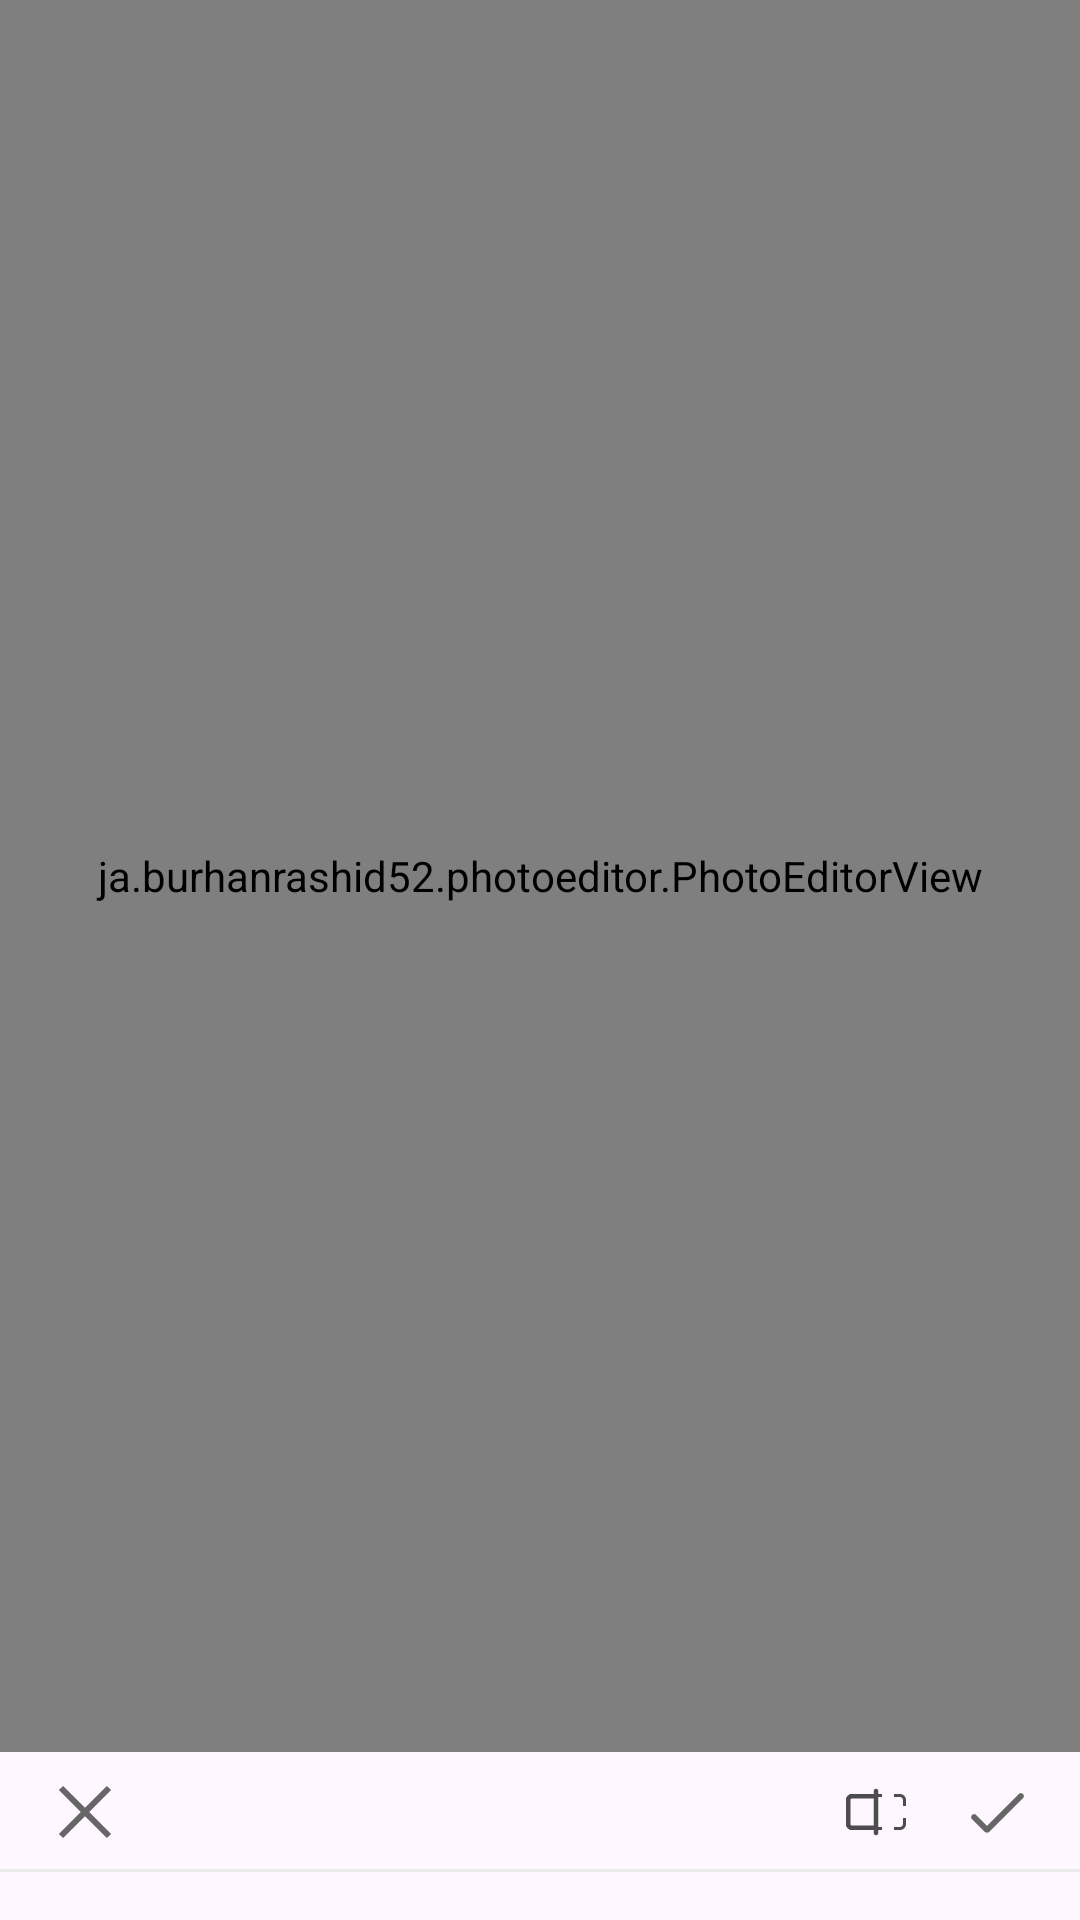

Icons on this 1080px×1920px Android screen, each with the point to tap as point (x, y):
close: point (85, 1812)
tick done: point (997, 1813)
